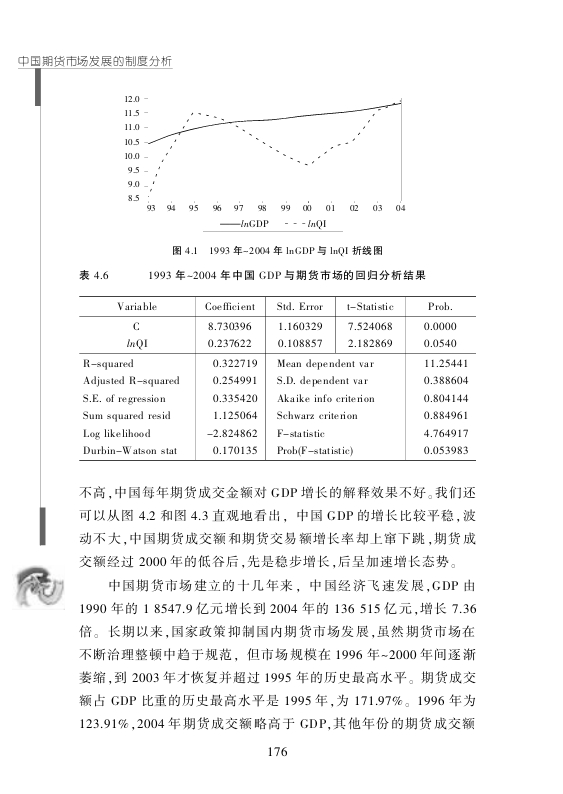table: (79, 296, 476, 461)
